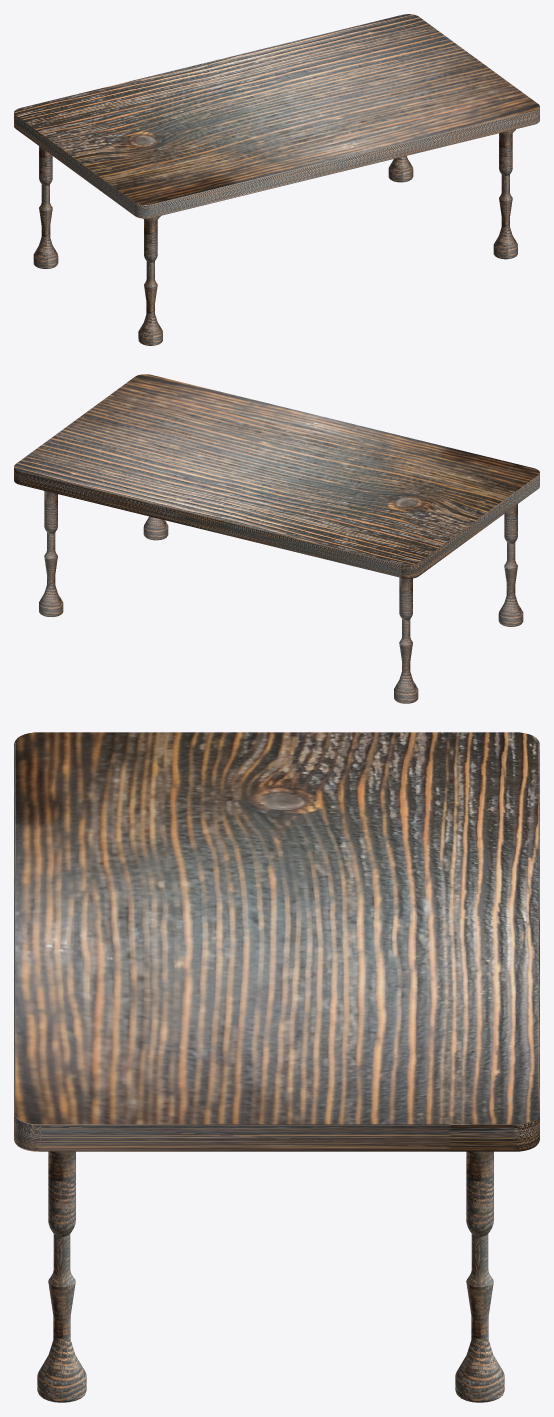
File: table.fbx
3 views of the same model, one above another, from view 1: azimuth 30°, elevation 25°; view 2: azimuth 150°, elevation 25°; view 3: azimuth 270°, elevation 25° (orthographic). The views are drawn at different scales.
Visible parts, largest first — view 1: pCube1, pCylinder3, pCylinder4, pCylinder2, pCylinder1; view 2: pCube1, pCylinder2, pCylinder1, pCylinder3, pCylinder4; view 3: pCube1, pCylinder4, pCylinder1.
Part boxes in pixels (x1=…): pCube1: x1=14, y1=14, x2=539, y2=218; pCylinder3: x1=138, y1=216, x2=162, y2=345; pCylinder4: x1=493, y1=129, x2=517, y2=259; pCylinder2: x1=33, y1=146, x2=58, y2=268; pCylinder1: x1=388, y1=156, x2=413, y2=182; pCube1: x1=14, y1=374, x2=539, y2=578; pCylinder2: x1=394, y1=577, x2=418, y2=703; pCylinder1: x1=39, y1=491, x2=63, y2=616; pCylinder3: x1=498, y1=504, x2=523, y2=626; pCylinder4: x1=143, y1=516, x2=168, y2=540; pCube1: x1=14, y1=732, x2=539, y2=1151; pCylinder4: x1=37, y1=1151, x2=86, y2=1402; pCylinder1: x1=455, y1=1151, x2=504, y2=1402.
Size of the model in its own units: 7.89 by 2.77 by 4.47.
